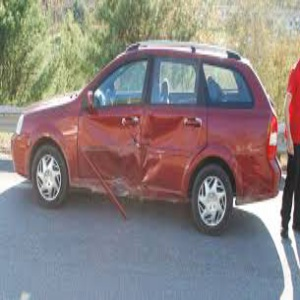door: (78, 114, 187, 194)
